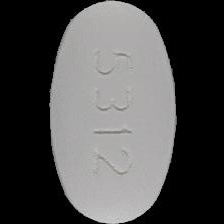66116-508: (0, 0, 224, 224)
